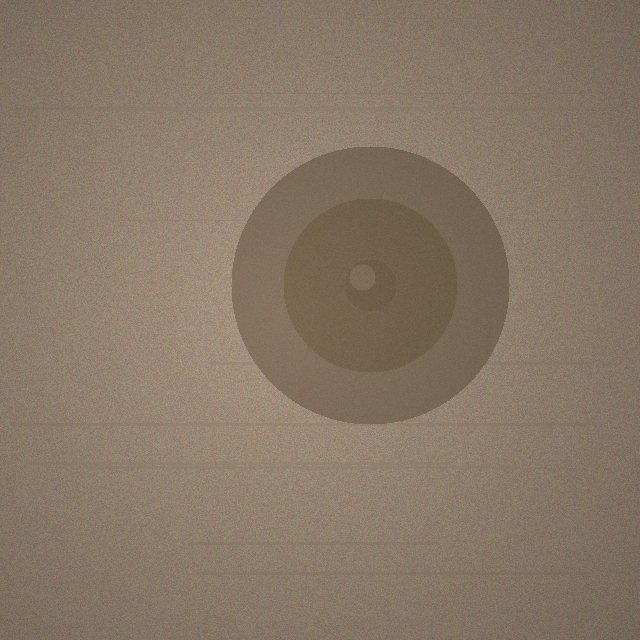good: (231, 146, 509, 424)
